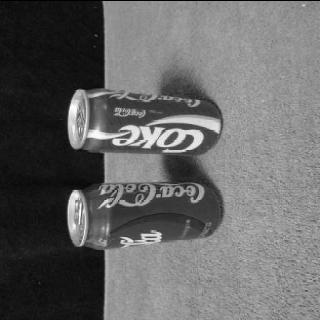alumunium_can: (66, 178, 222, 250), (68, 86, 222, 156)
